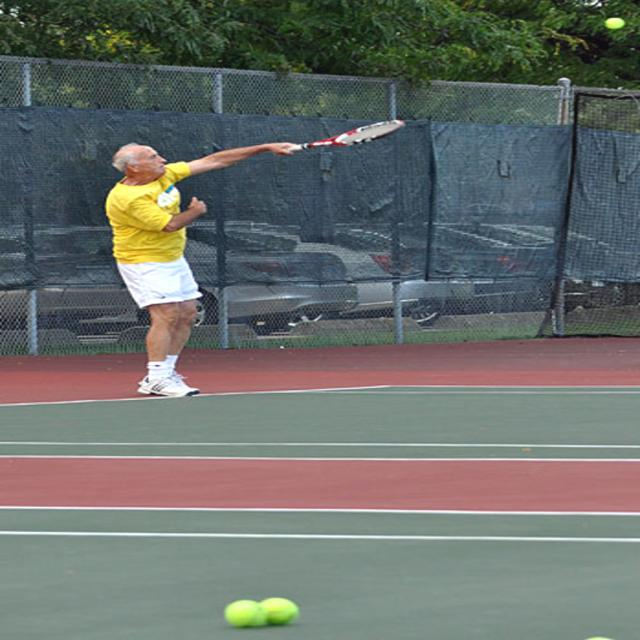Tennis Ball: (226, 600, 272, 626), (266, 596, 300, 624), (600, 17, 622, 29)
